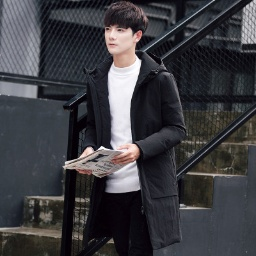face: (99, 3, 153, 56)
